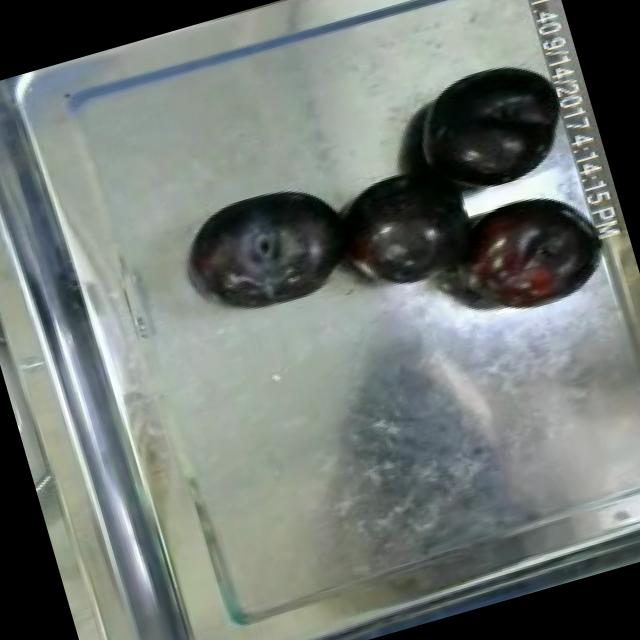Fruit: (170, 165, 370, 328), (429, 171, 614, 337), (396, 45, 580, 211), (316, 146, 498, 308)
